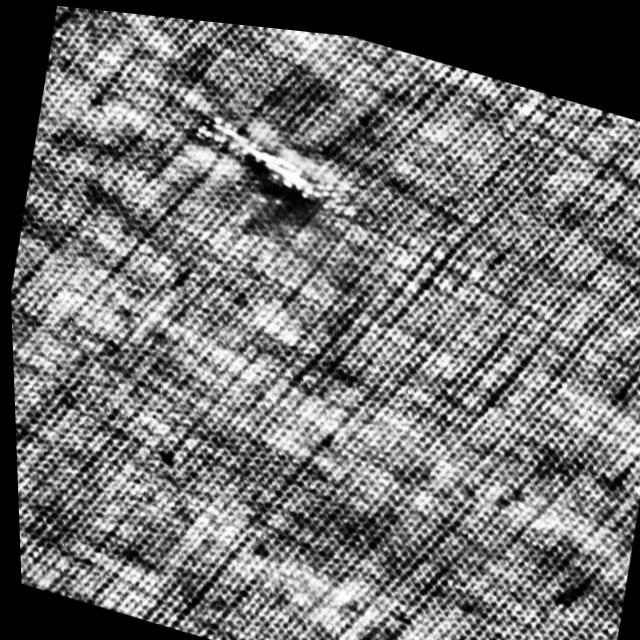Hole: (177, 98, 371, 223)
